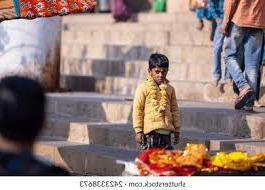Human: (125, 45, 199, 153)
